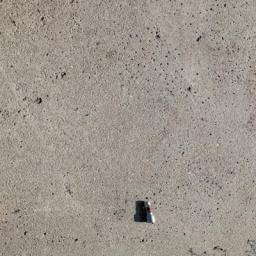FOD: (132, 196, 157, 227)
